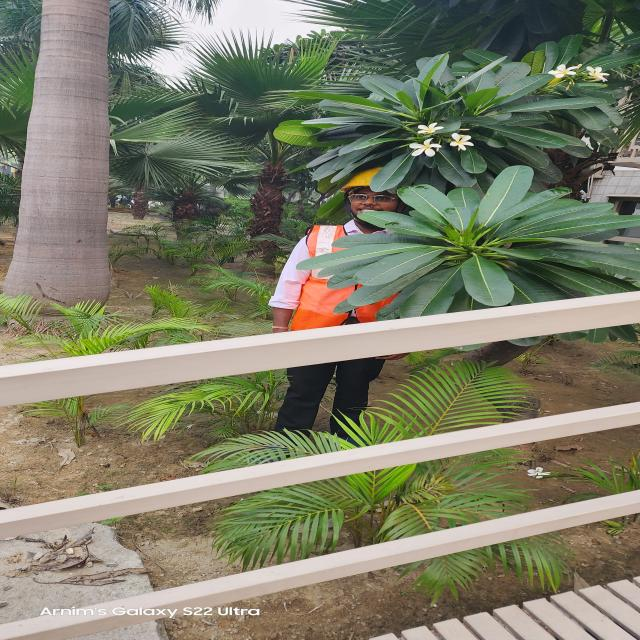safe: (273, 165, 414, 475)
